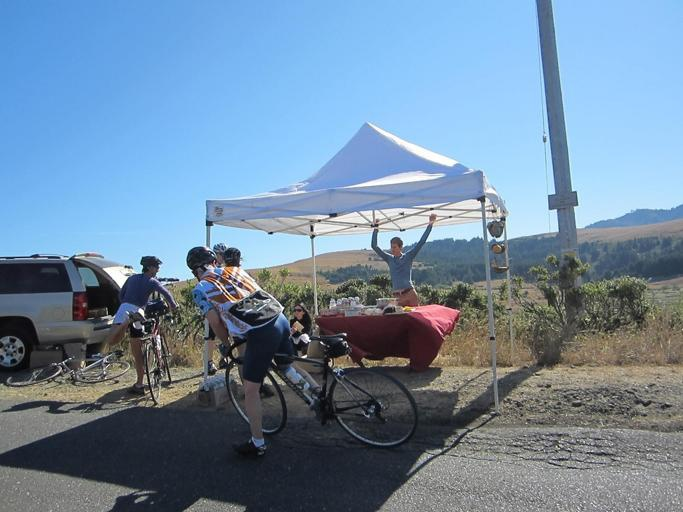non-vehicle: (216, 332, 419, 448), (5, 343, 131, 386), (138, 297, 177, 405)
